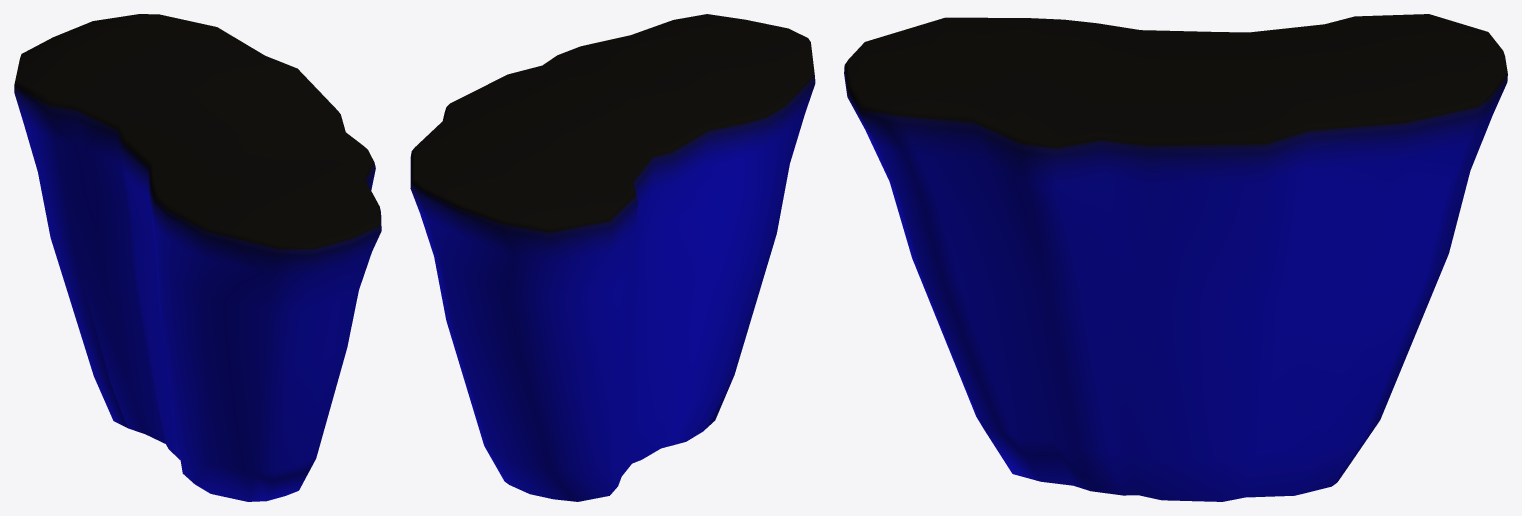
Rendered from CliffDryGrassCovered_GEO.fbx.
3 views of the same model, side by side, from view 1: azimuth 30°, elevation 25°; view 2: azimuth 150°, elevation 25°; view 3: azimuth 270°, elevation 25° (orthographic). The views are drawn at different scales.
Visible parts, largest first — view 1: CliffDryGrassCovered_LOD0; view 2: CliffDryGrassCovered_LOD0; view 3: CliffDryGrassCovered_LOD0.
Boxes of the visible parts, <box> form: CliffDryGrassCovered_LOD0: <box>14,14,381,501</box>; CliffDryGrassCovered_LOD0: <box>410,14,815,501</box>; CliffDryGrassCovered_LOD0: <box>844,14,1507,501</box>.
Size of what is drawn, in the model's own units: 4.79 by 6.57 by 9.61.
